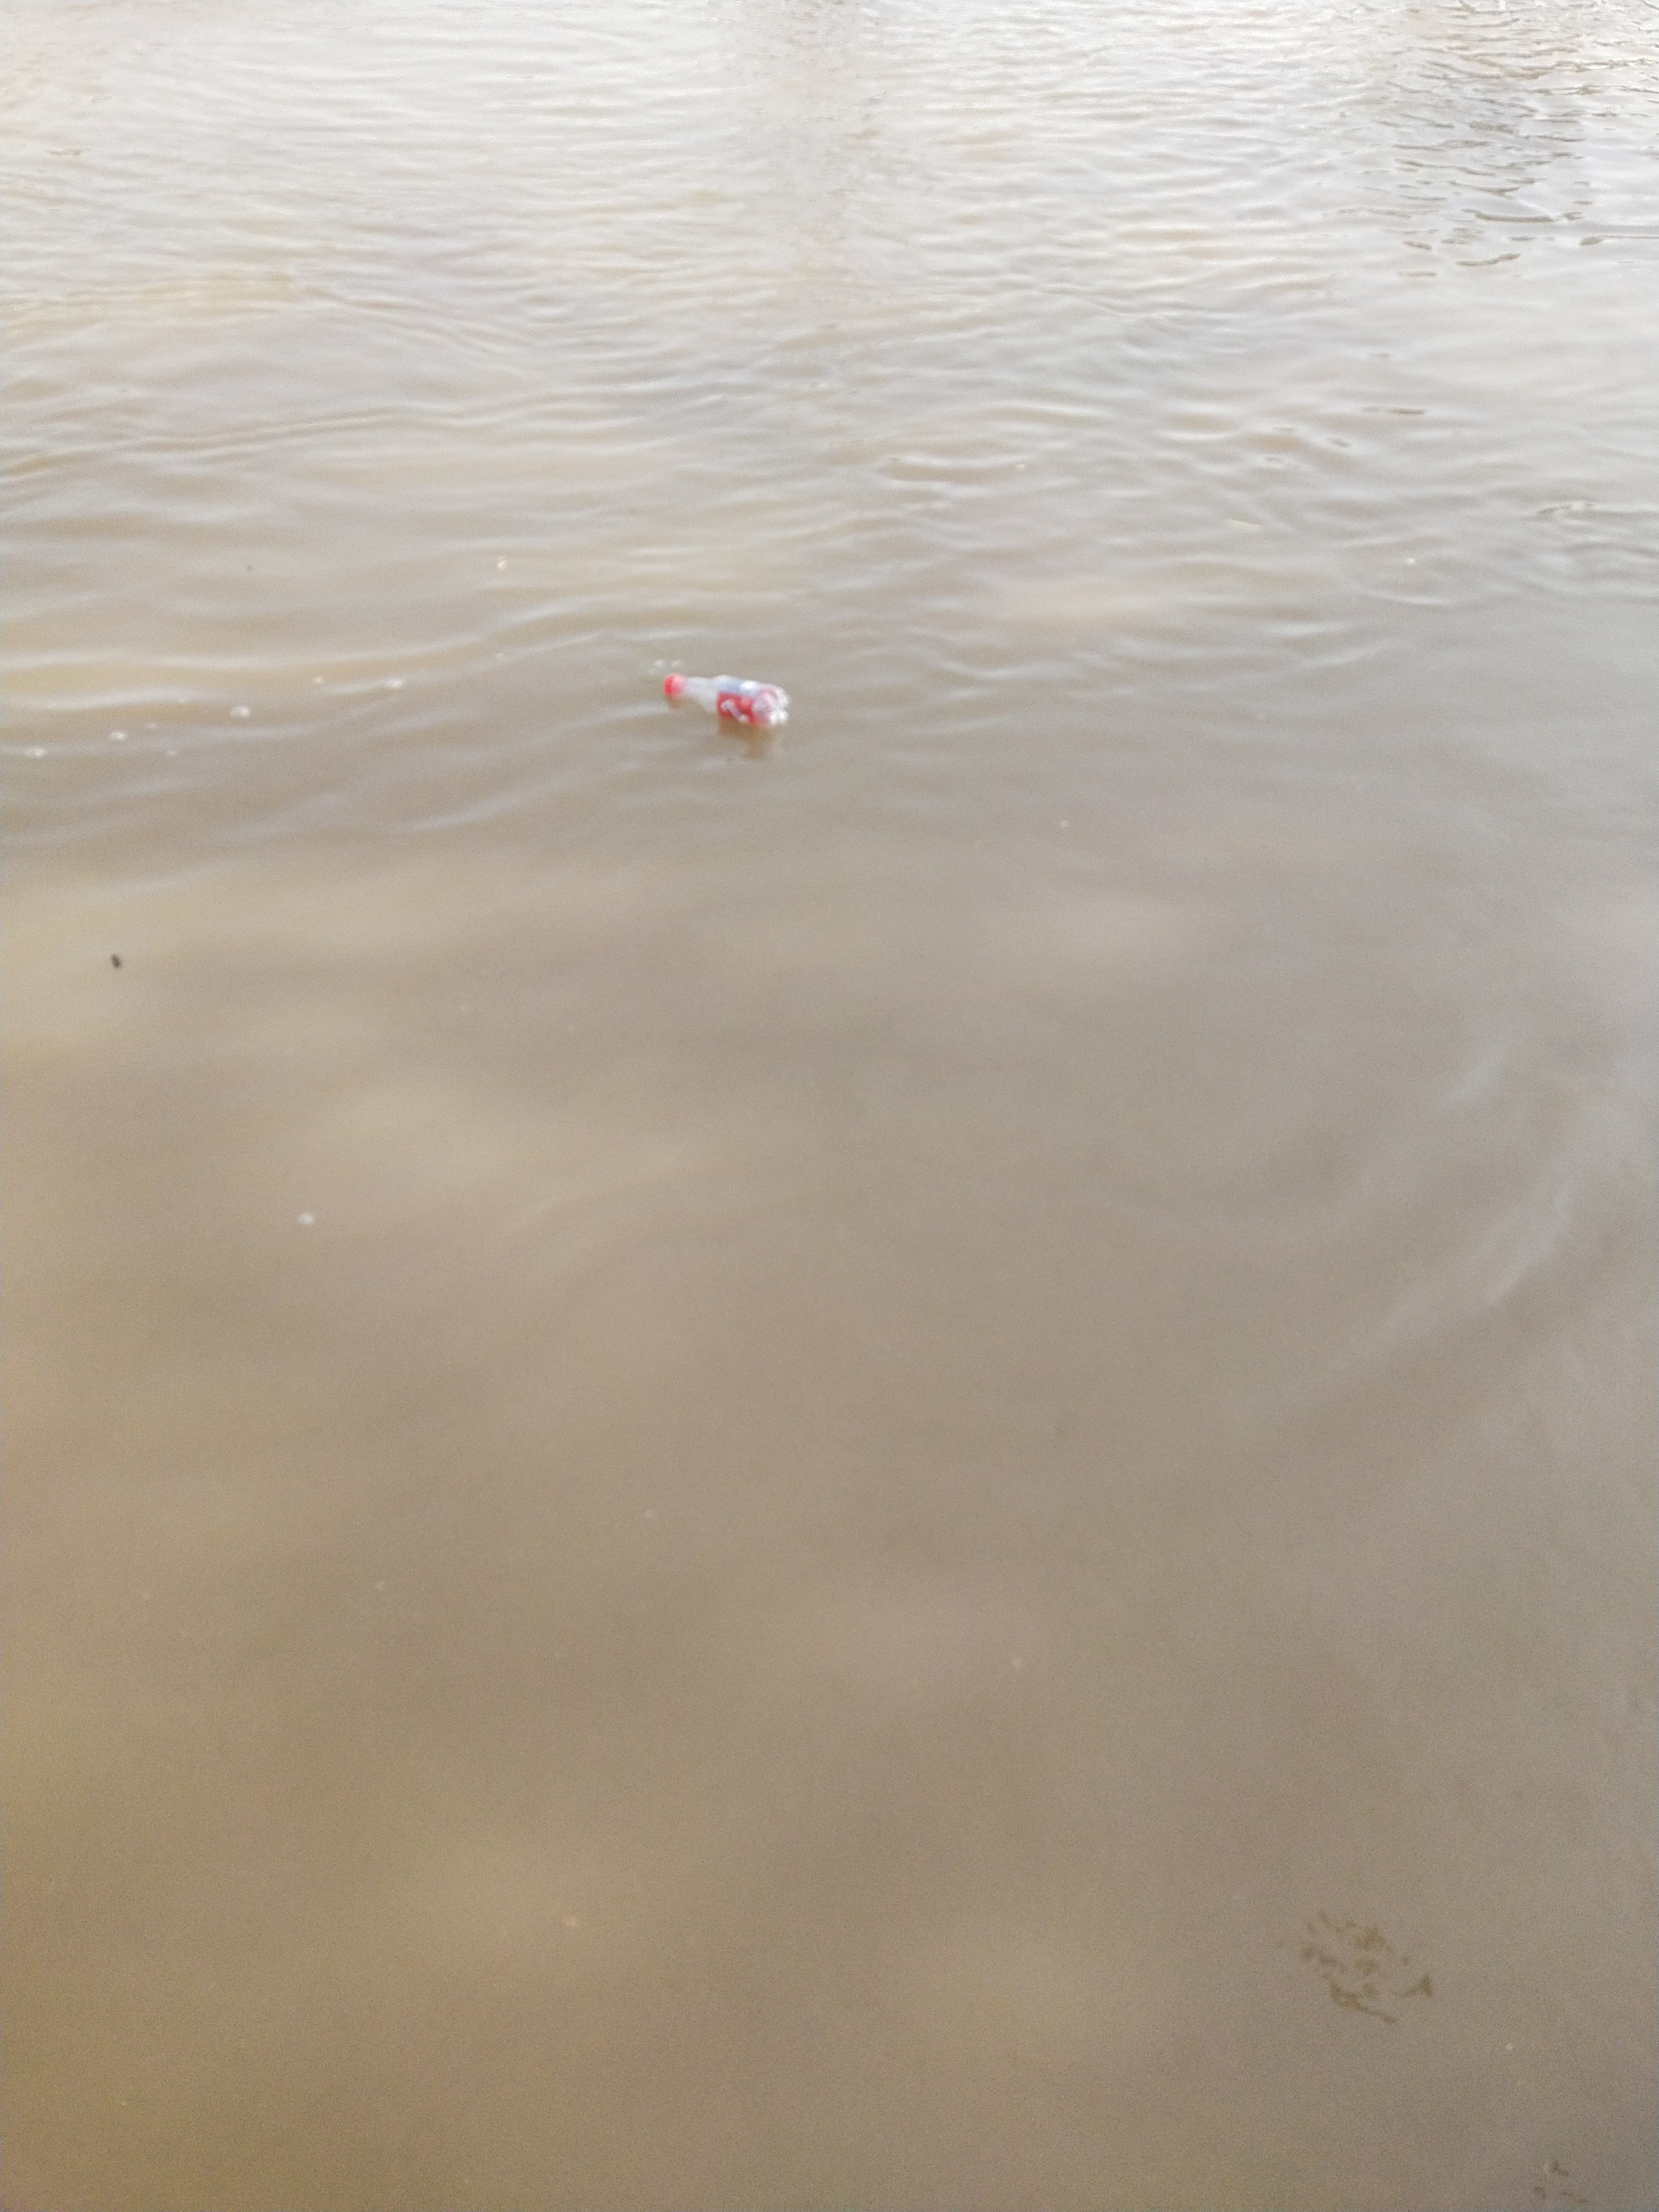Plastic Bottle: (662, 671, 791, 728)
